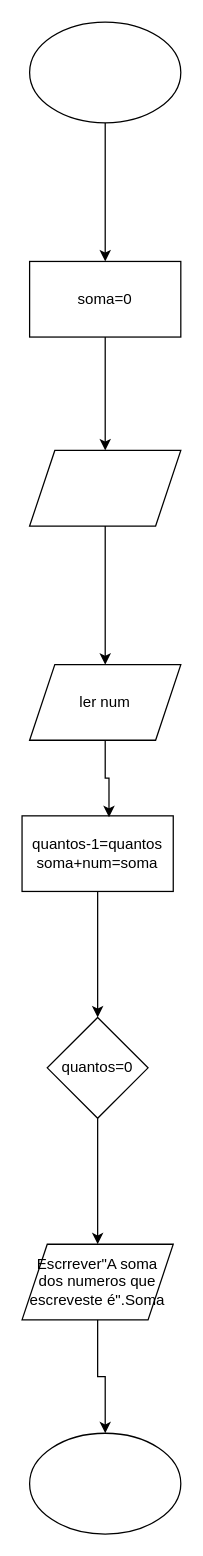
Image size: 203x1556. Some labels were removed from this diagram. The box of each missing label's shape, as (x1, y1, x2, y2) in pixels:
fim: (28, 1432, 181, 1534)
inicio: (28, 21, 181, 123)
ler quantos: (28, 449, 181, 526)
